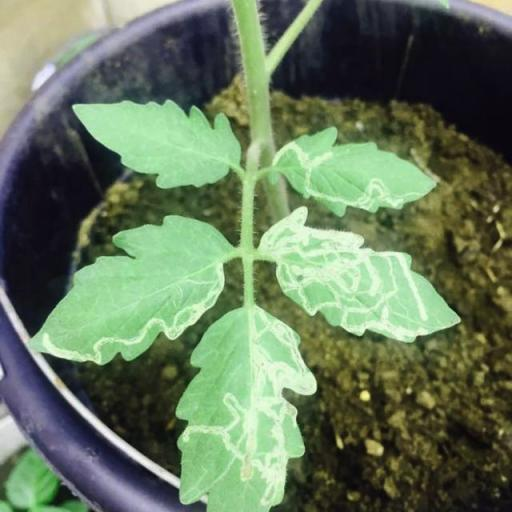disease_tomato: (30, 216, 226, 366), (180, 306, 322, 512), (260, 206, 463, 344), (266, 124, 442, 214)
